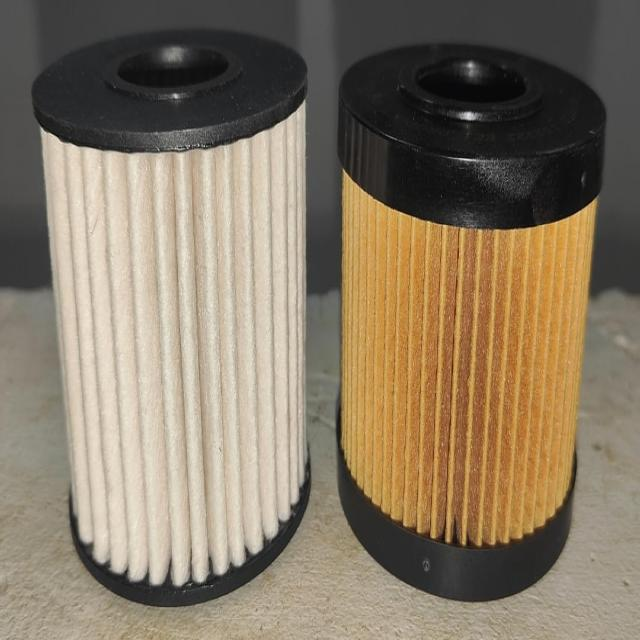oil_filter: (35, 25, 320, 610), (333, 41, 609, 604)
